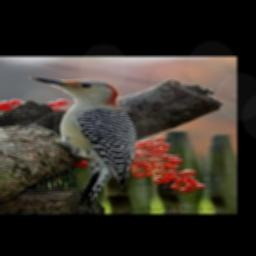Woodpecker: (21, 73, 137, 213)
